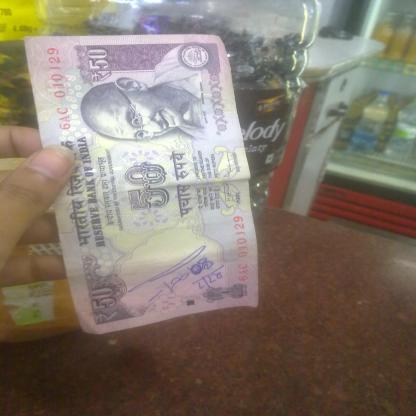Old50Front: (23, 34, 259, 334)
